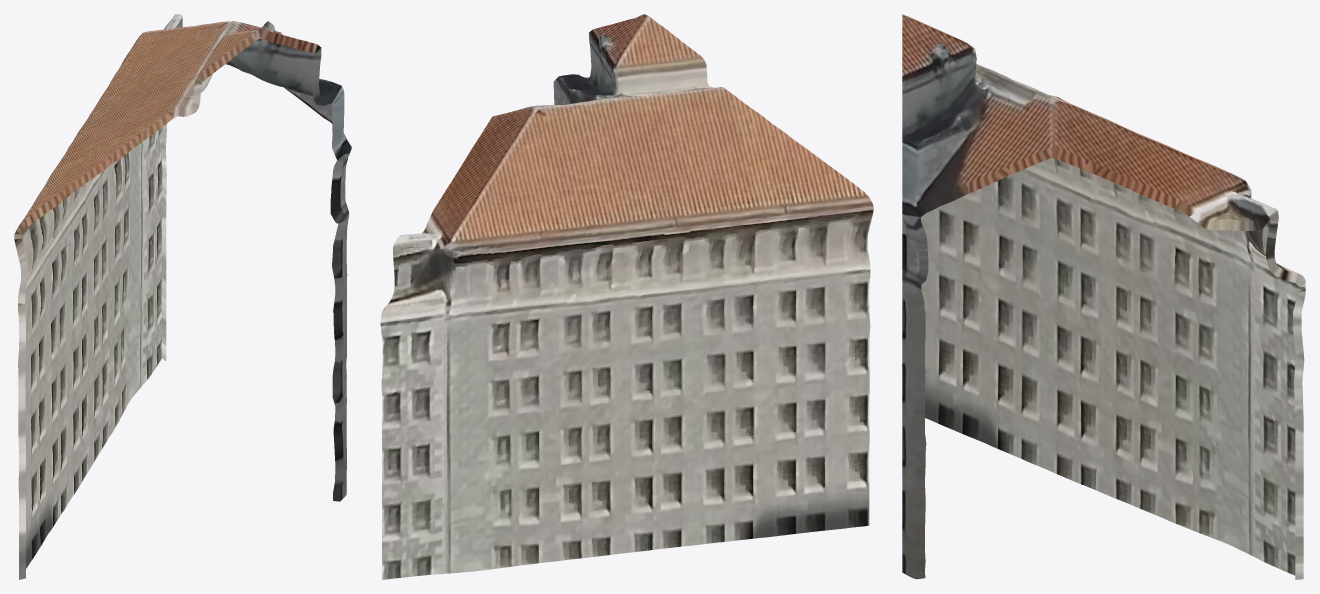
The model's file is z20-167781-405233-h1-yup-uvflip-v3-world.glb.
3 views of the same model, side by side, from view 1: azimuth 30°, elevation 25°; view 2: azimuth 150°, elevation 25°; view 3: azimuth 270°, elevation 25° (orthographic). The views are drawn at different scales.
Bounding box in the file's own units: 23.2 × 32.2 × 22.76.
Materials: 1 (1 with a texture image).
